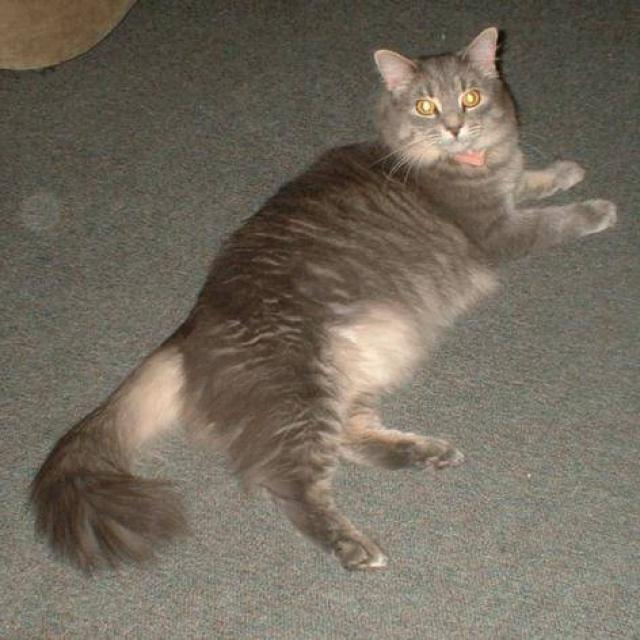cat: (26, 25, 617, 578)
